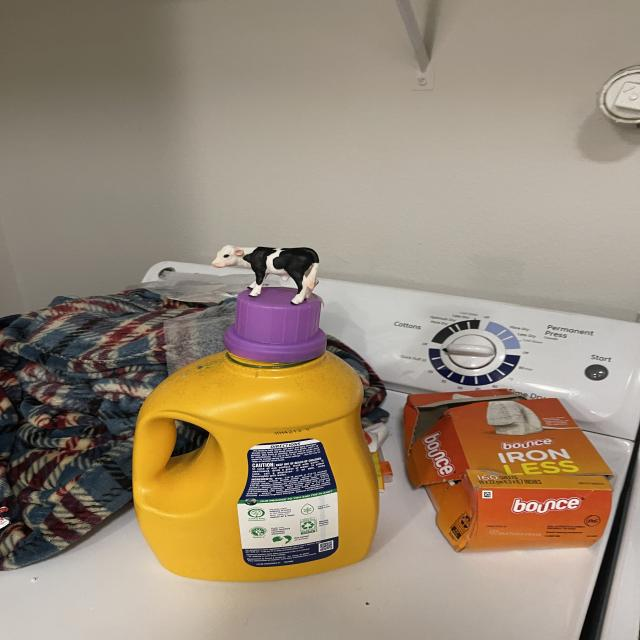cow: (211, 245, 319, 305)
